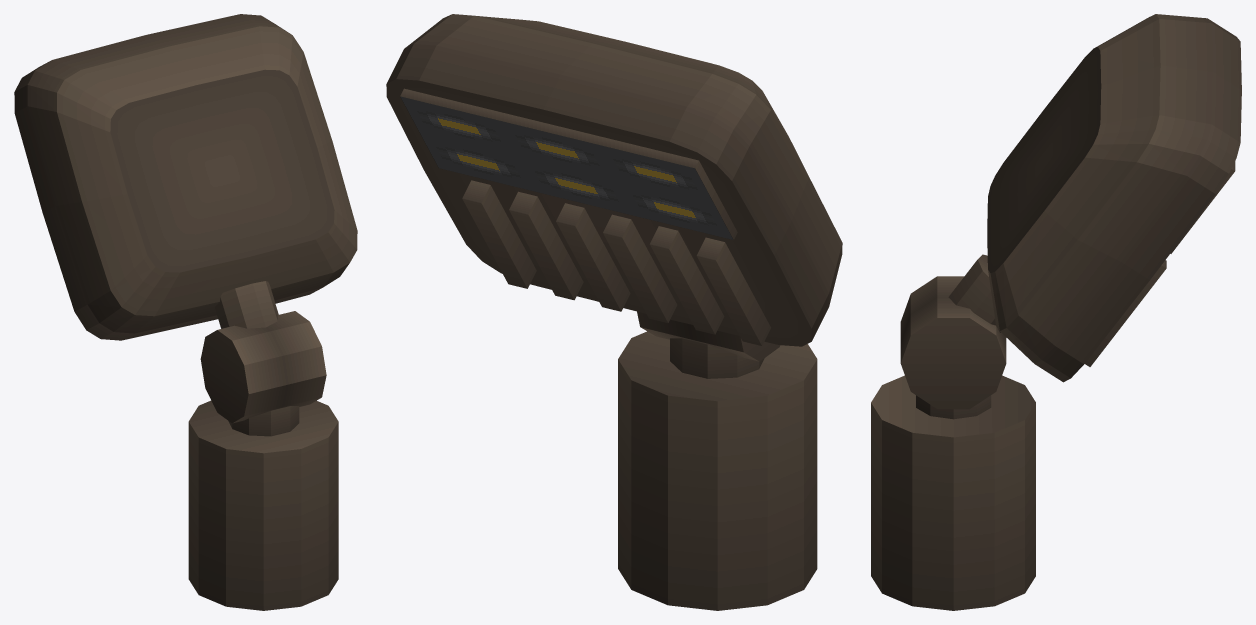
The model's file is floodlight_lithdsxf1sf_g.obj.
3 views of the same model, side by side, from view 1: azimuth 30°, elevation 25°; view 2: azimuth 150°, elevation 25°; view 3: azimuth 270°, elevation 25° (orthographic). The views are drawn at different scales.
Visible parts, largest first — view 1: fixture; view 2: fixture; view 3: fixture.
Part boxes in pixels (x1,y1,x2,y2): fixture: [14, 14, 357, 610]; fixture: [386, 14, 842, 610]; fixture: [871, 14, 1241, 610].
Size of the model in its own units: 0.317 by 0.5333 by 0.3511.
